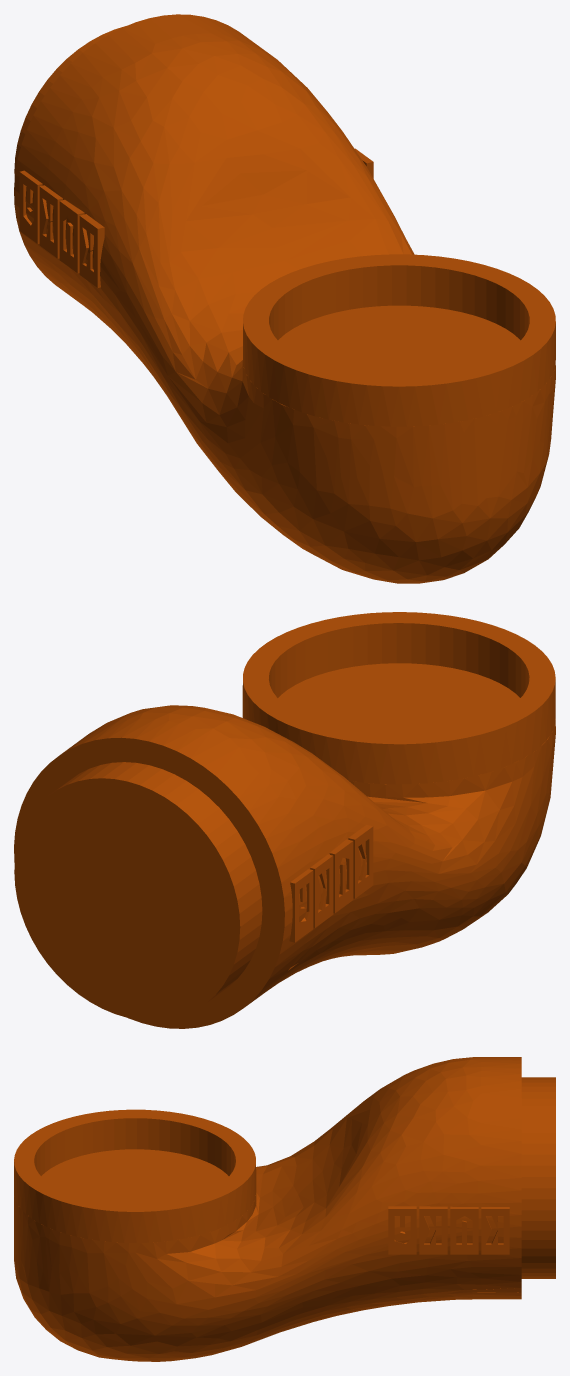
The model's file is kuka-link3.stl.obj.
3 views of the same model, one above another, from view 1: azimuth 30°, elevation 25°; view 2: azimuth 150°, elevation 25°; view 3: azimuth 270°, elevation 25° (orthographic). The views are drawn at different scales.
Parts seen in each view (by area): view 1: <STL_BINARY>; view 2: <STL_BINARY>; view 3: <STL_BINARY>.
Part boxes in pixels (x1,y1,x2,y2): <STL_BINARY>: [14, 14, 555, 583]; <STL_BINARY>: [14, 612, 555, 1028]; <STL_BINARY>: [14, 1057, 555, 1361].
Size of the model in its own units: 0.122 by 0.1537 by 0.2685.
